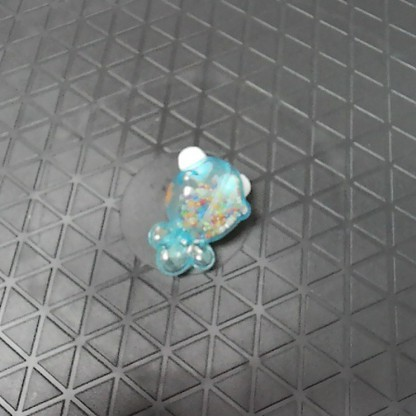bluefish: (147, 145, 254, 277)
